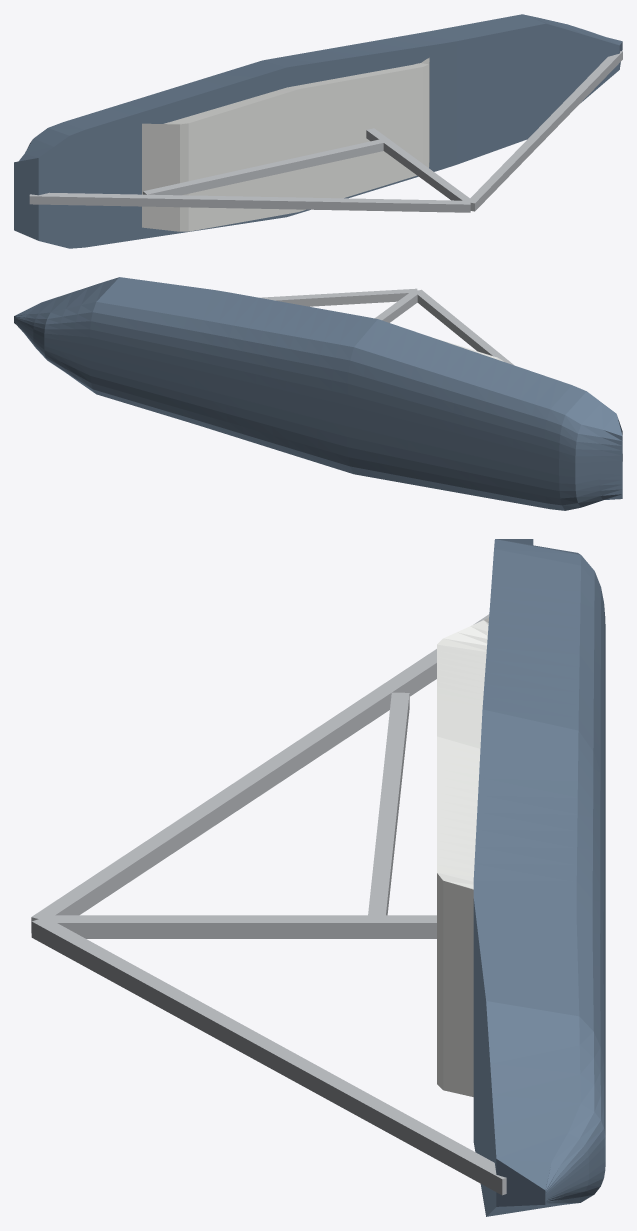
The model's file is loft-sail-large.glb.
3 renders of one model, top to bottom at view 1: azimuth 30°, elevation 25°; view 2: azimuth 150°, elevation 25°; view 3: azimuth 270°, elevation 25°, orthographic. The views are drawn at different scales.
Parts seen in each view (by area): view 1: sail-large; view 2: sail-large; view 3: sail-large.
Part boxes in pixels (<box>): sail-large: <box>14,14,622,248</box>; sail-large: <box>14,277,622,510</box>; sail-large: <box>31,539,605,1216</box>.
Bounding box in the file's own units: 1.88 × 0.4398 × 0.7723.
